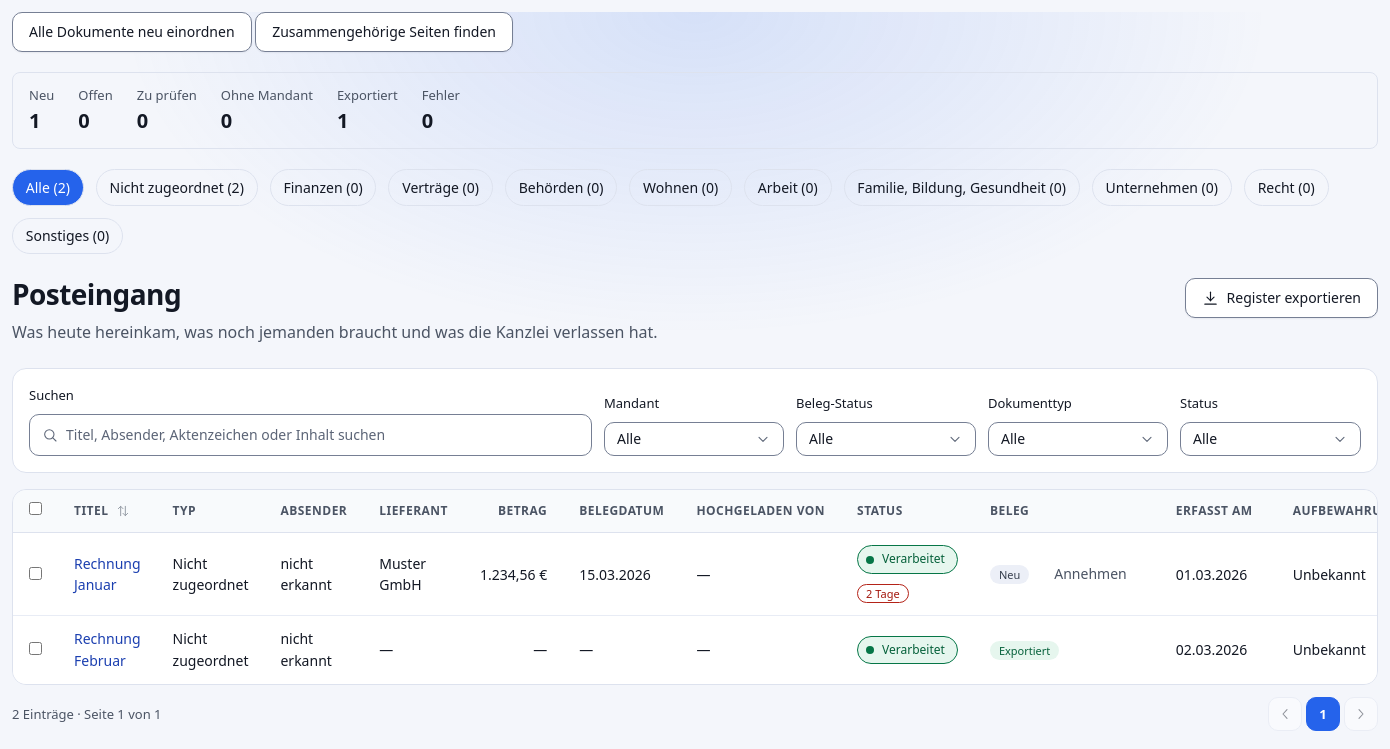
it: Posteingang queue › selects the whole page with one checkbox
This screenshot has width=1390, height=749.
Expected: the link "Rechnung Januar" is shown, x1=74 y1=554 x2=140 y2=594
Click the checkbox named "Alle Dokumente dieser Seite auswählen".
click(36, 508)  # box x1=29 y1=502 x2=42 y2=515
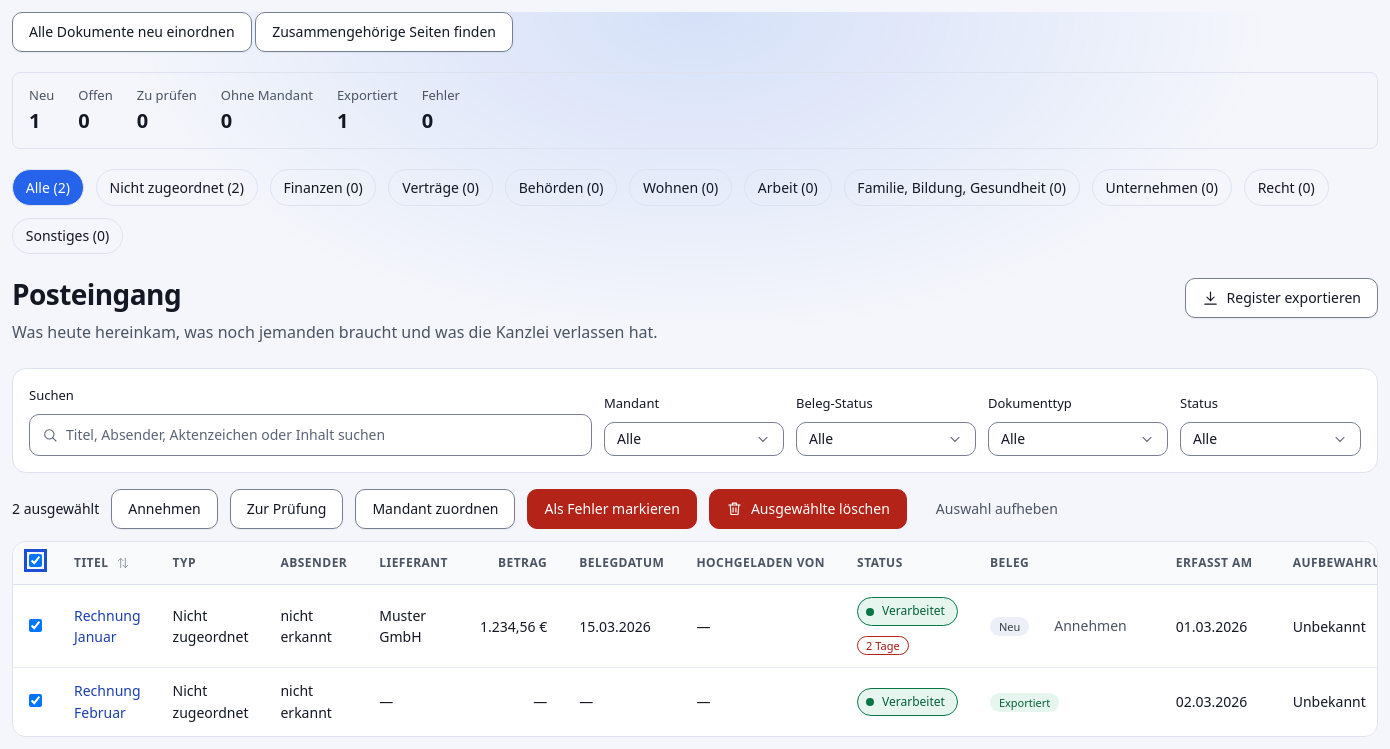
Now the text "2 ausgewählt" is shown, box x1=12 y1=498 x2=99 y2=520
Now the checkbox named "Dokument auswählen: Rechnung Februar" is checked, box x1=29 y1=694 x2=42 y2=707
